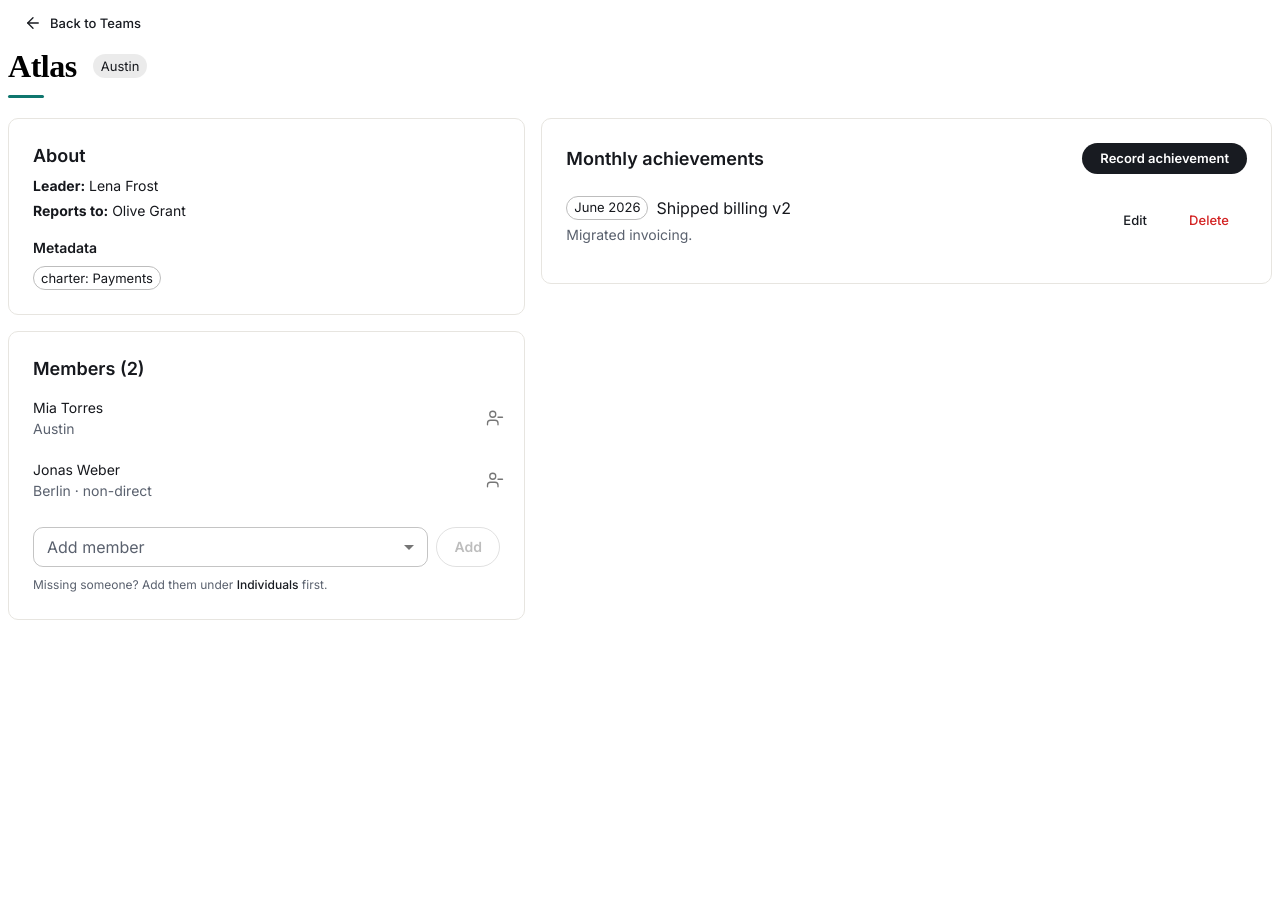
Scenario: TeamDetails page › records an achievement for a month
Expected: the heading "Atlas" is shown, x1=8 y1=47 x2=77 y2=85
Click the button "Record achievement": x=1165, y=158 x1=1082 y1=143 x2=1247 y2=174
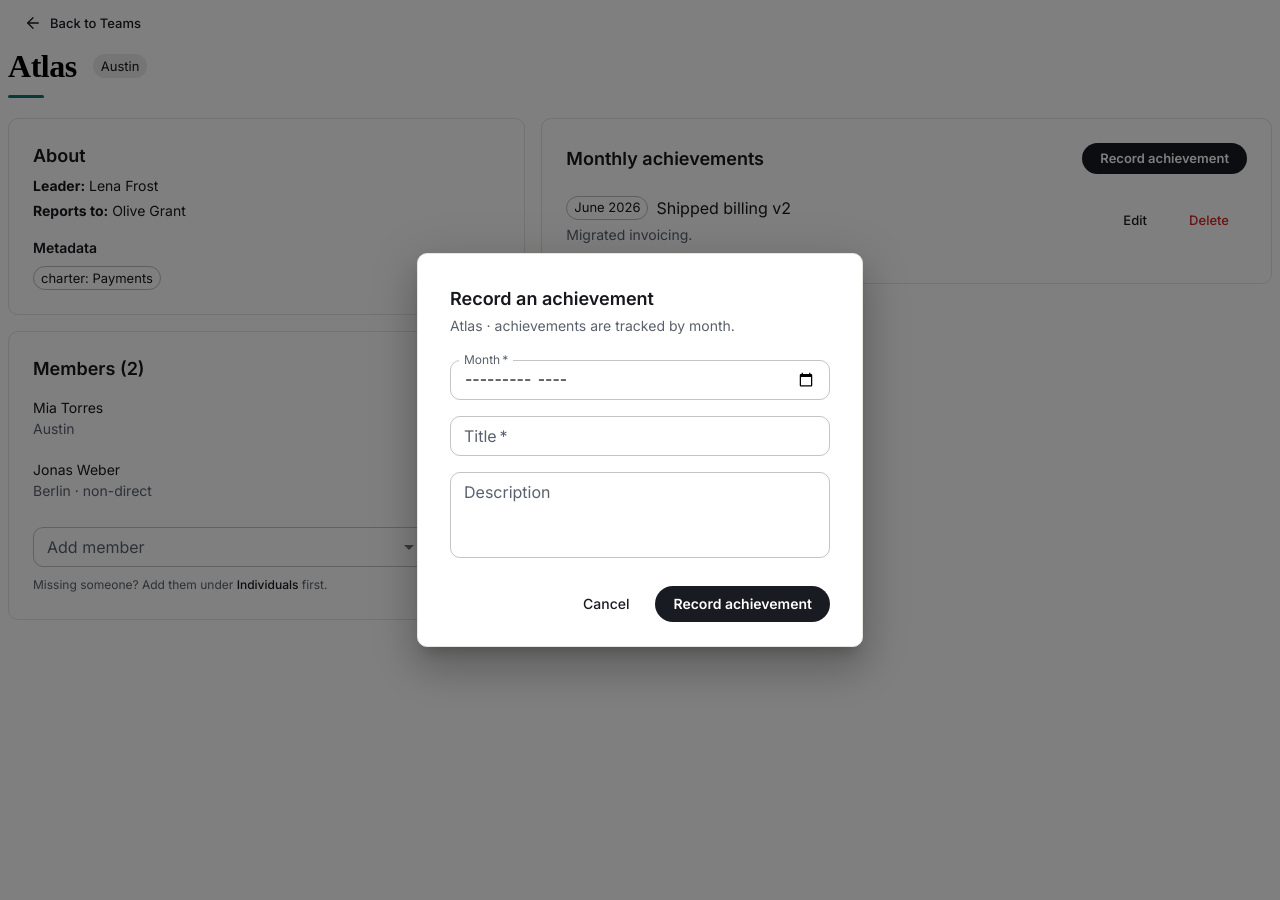
Click the field labelled "Month *": x=640, y=380 x1=450 y1=360 x2=830 y2=400
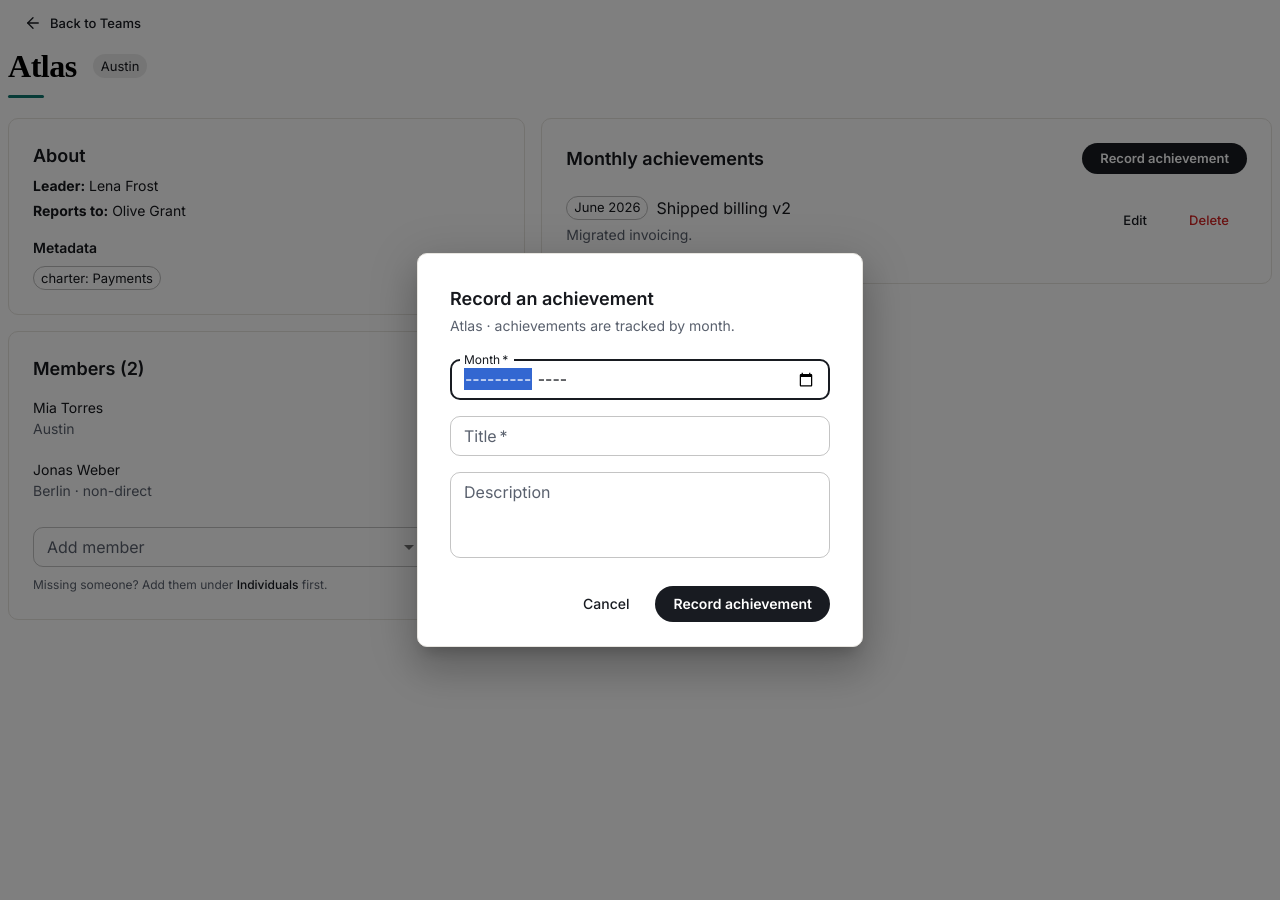
Type keys "2026-07"
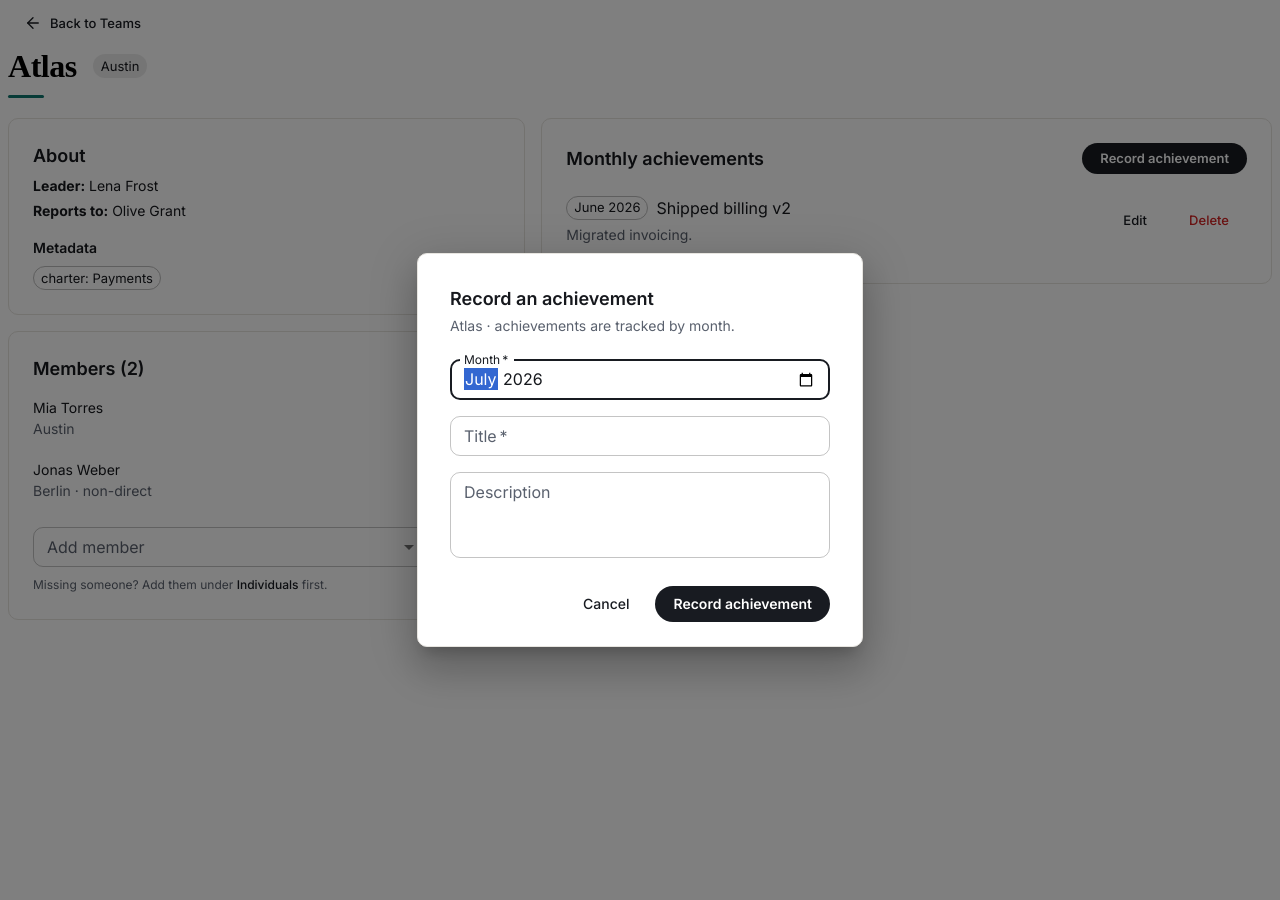
In the field labelled "Title *": x=640, y=436 x1=450 y1=416 x2=830 y2=456, type "Launched partner sandbox"
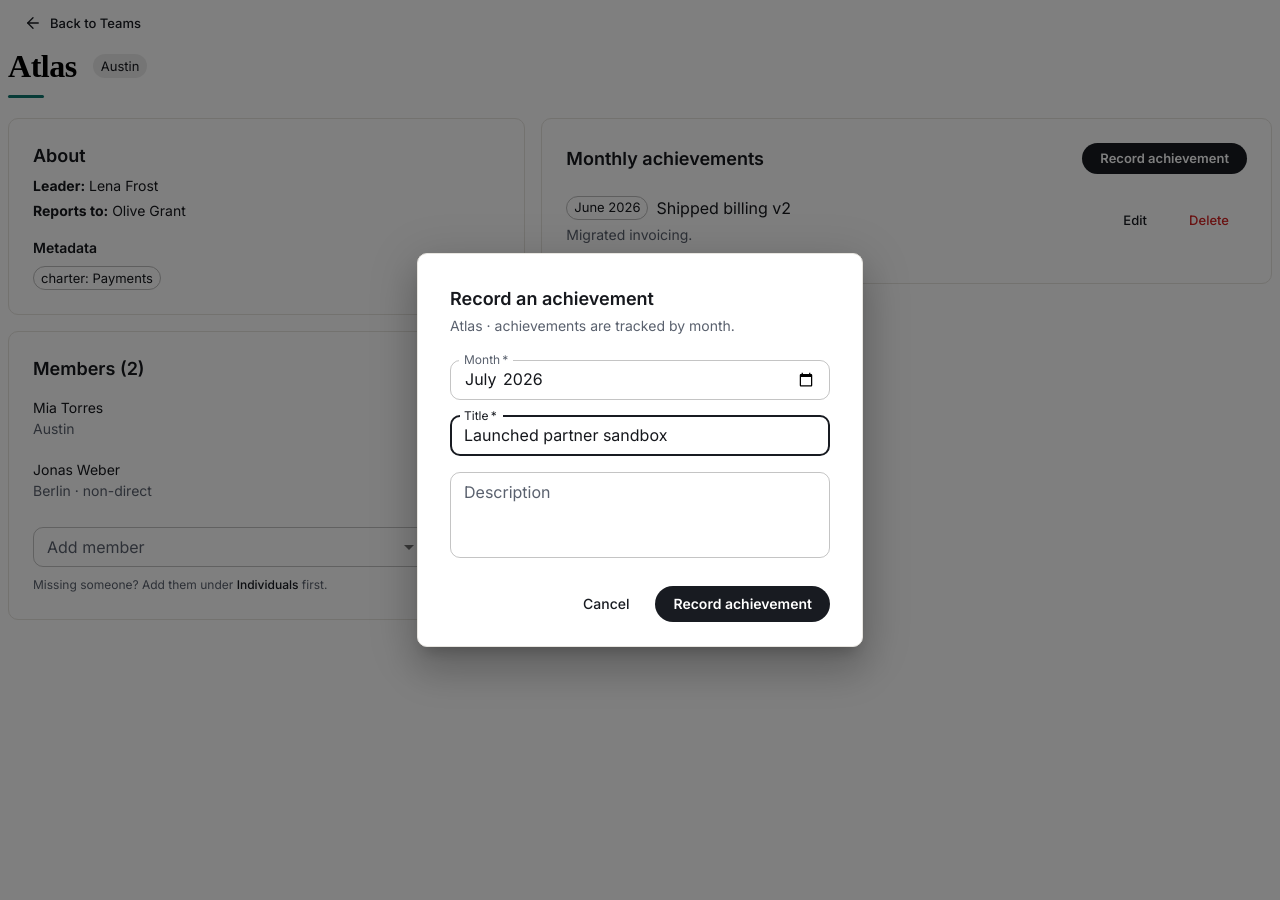
Click the button "Record achievement": x=743, y=604 x1=656 y1=586 x2=830 y2=622
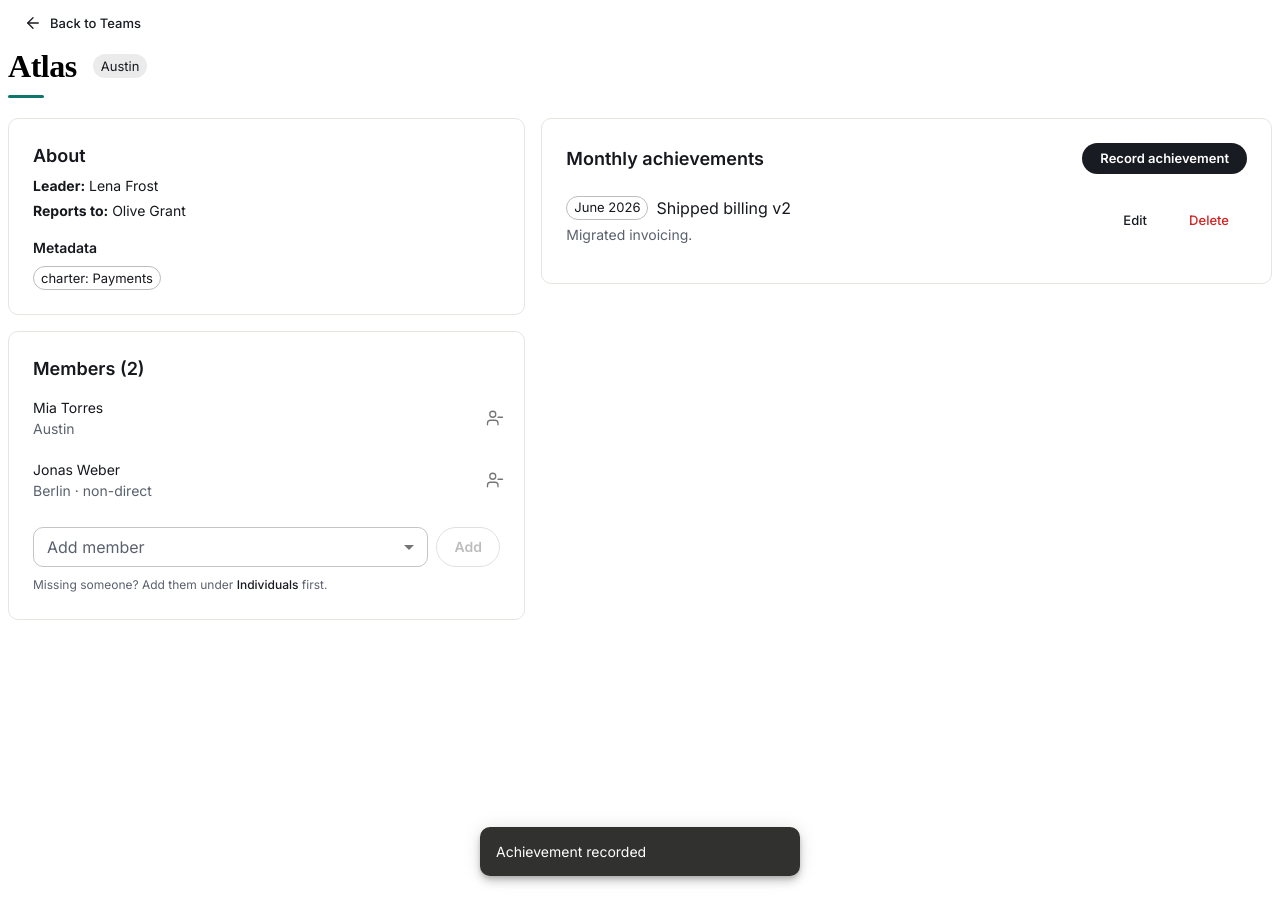
Now the text "Achievement recorded" is shown, box x1=496 y1=843 x2=646 y2=860
